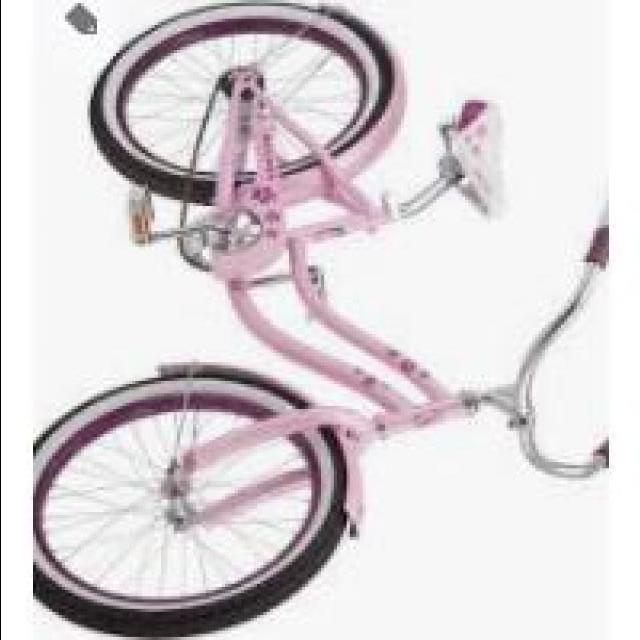bicycle: (65, 23, 625, 629)
